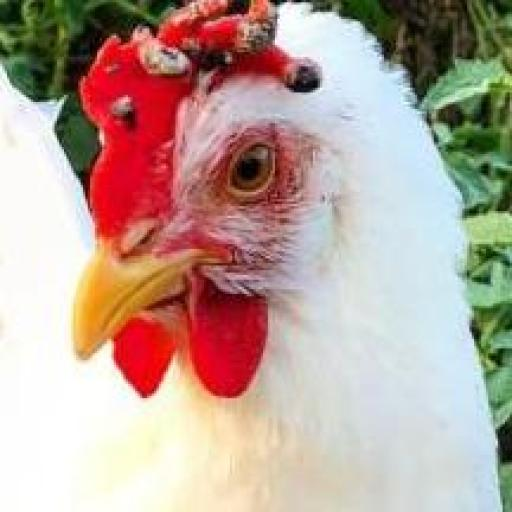disease: (110, 1, 368, 99), (108, 72, 148, 140)
